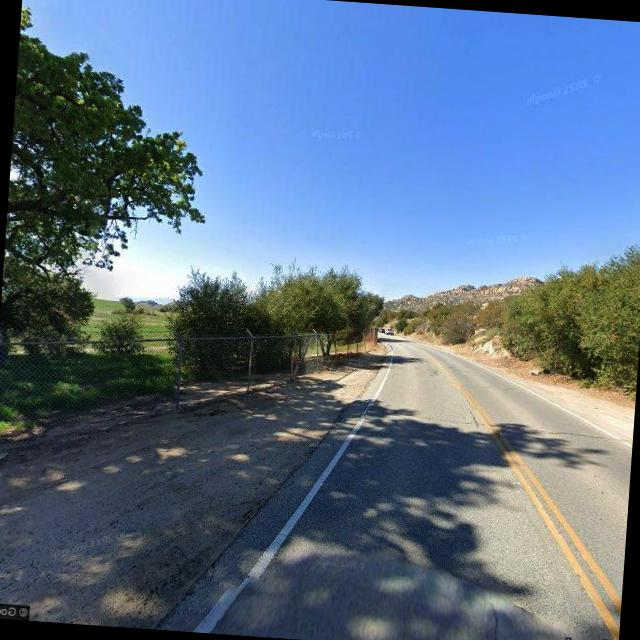crack: (408, 411, 634, 446)
